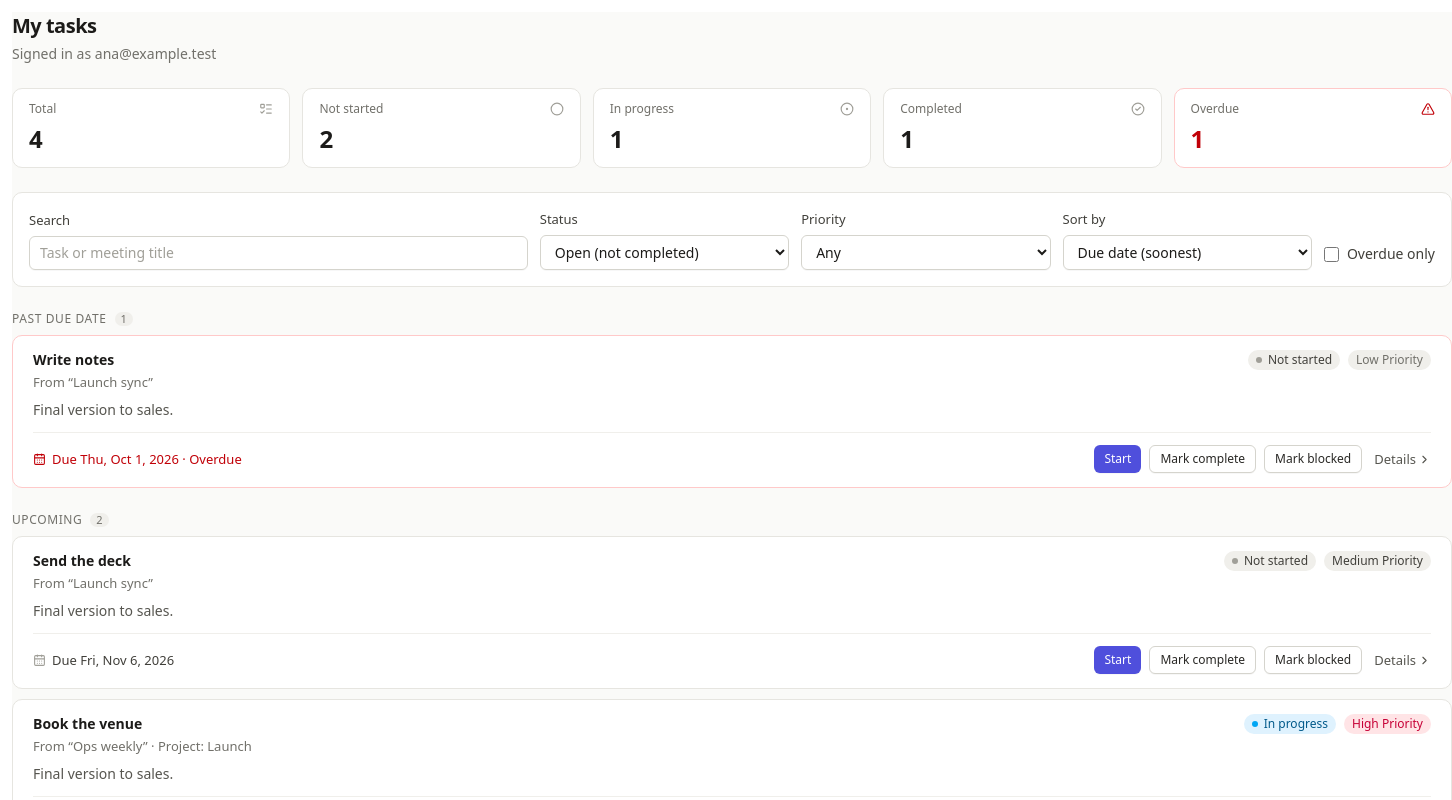
Test case: employee dashboard › updates a status once, then reloads from the server
Click the button "Start" in the row of "Fri, Nov 6, 2026": (1118, 660) [1094,646,1142,674]
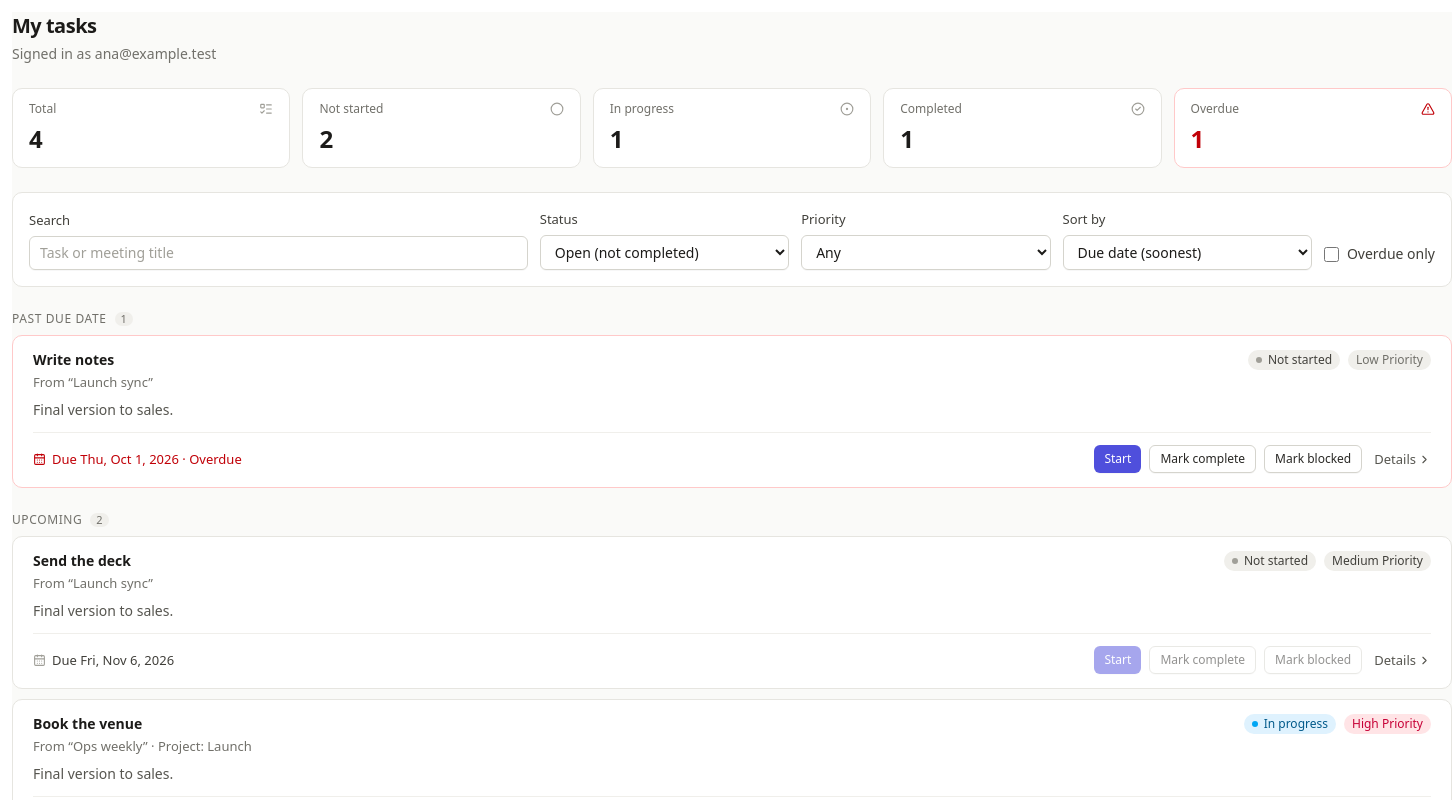
Click the button "Start" in the row of "Fri, Nov 6, 2026": (1118, 660) [1094,646,1142,674]
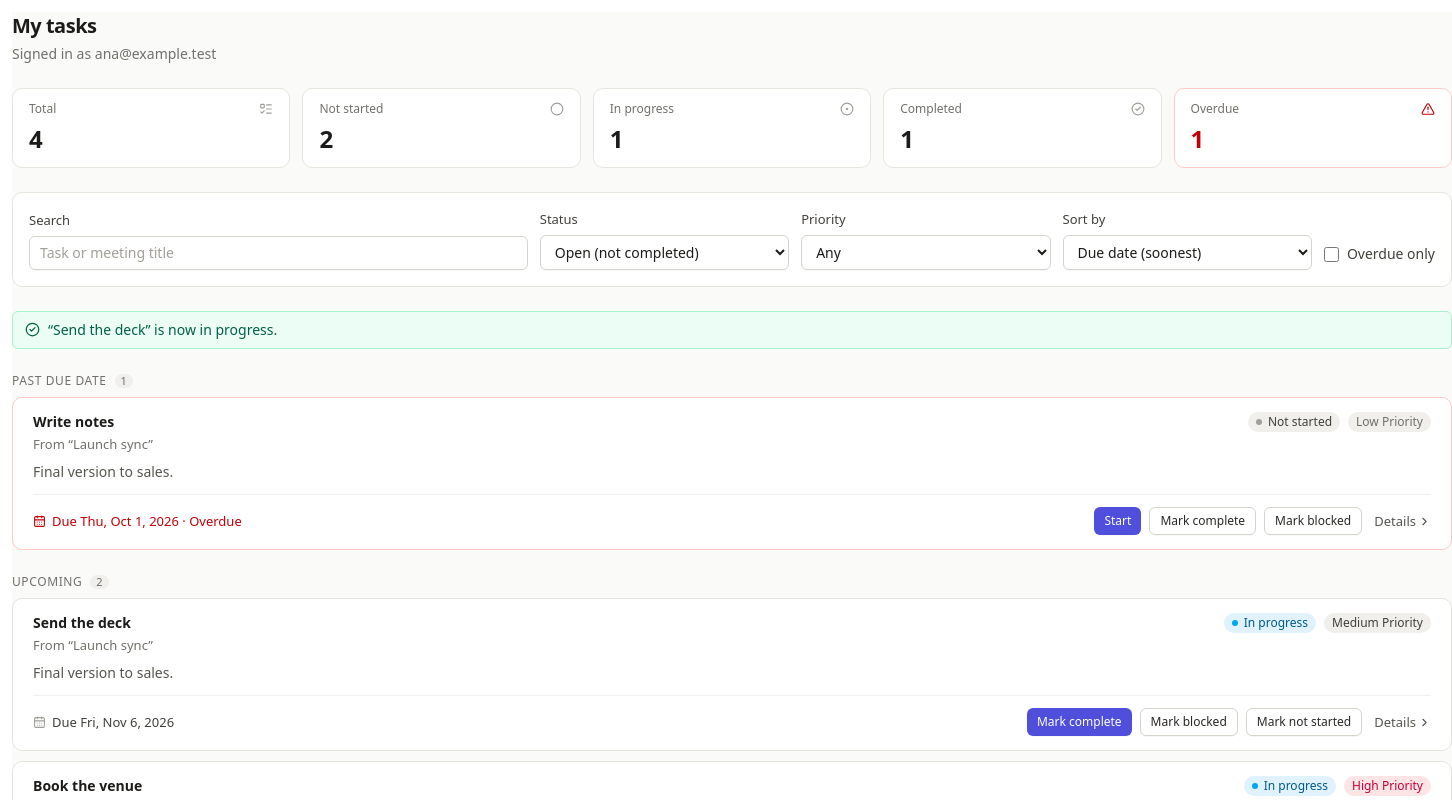
Expected: the text "Not started" next to "medium" is shown, [1224,613,1316,633]
Expected: the text "“Send the deck” is now in progress." is shown, [48,320,277,339]
Expected: the text "In progress" next to "medium" is shown, [1244,614,1308,631]
